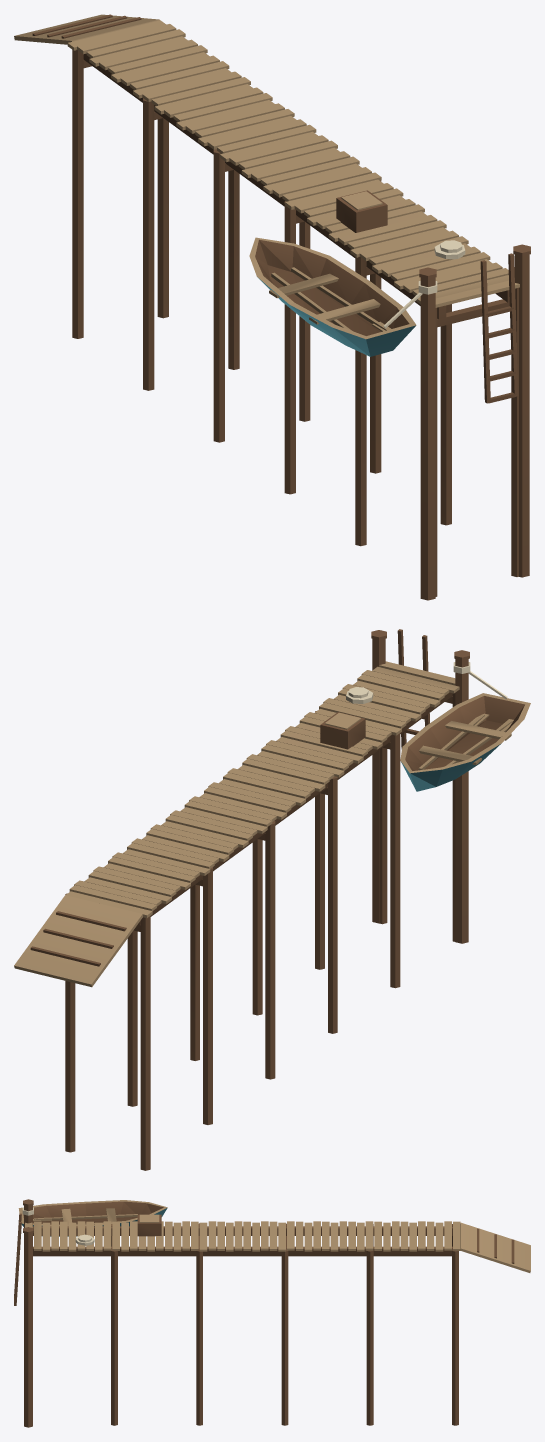
The model's file is pier_0.glb.
3 views of the same model, one above another, from view 1: azimuth 30°, elevation 25°; view 2: azimuth 150°, elevation 25°; view 3: azimuth 270°, elevation 25° (orthographic). The views are drawn at different scales.
Visible parts, largest first — view 1: pier_0; view 2: pier_0; view 3: pier_0.
Part boxes in pixels (x1,y1,x2,y2): pier_0: (14,14,530,600); pier_0: (14,629,530,1170); pier_0: (14,1199,530,1427).
Bounding box in the file's own units: 3.1 × 5 × 11.84.
